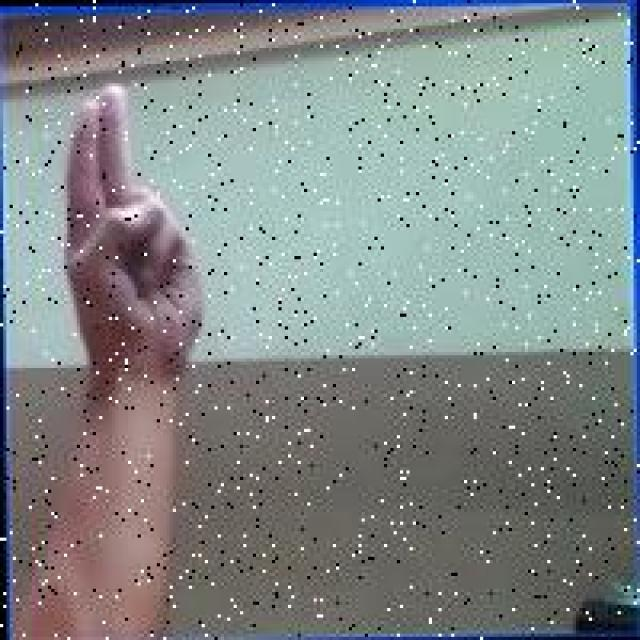U: (55, 74, 202, 380)
